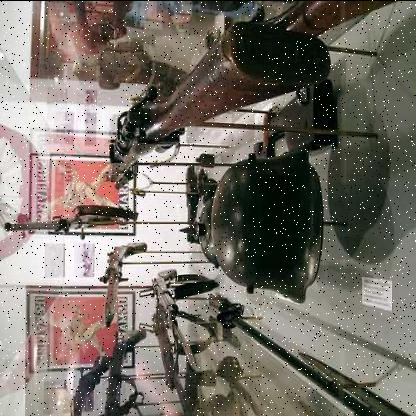rifle: (95, 15, 348, 196)
